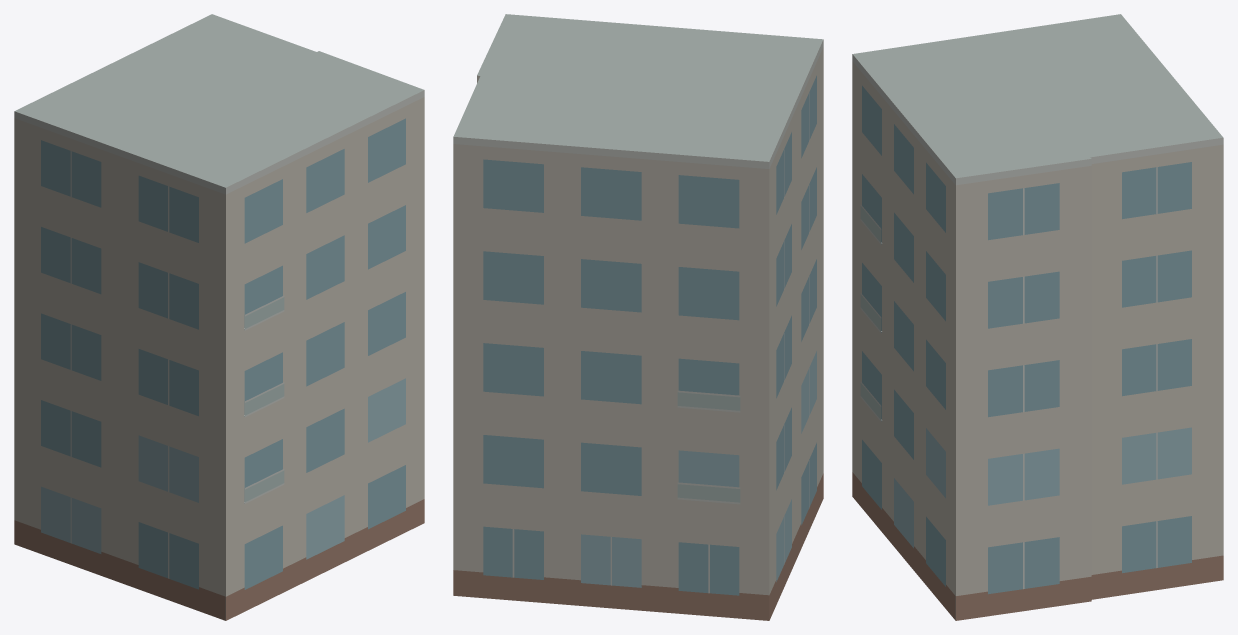
File: survey-upis-32829398.glb
The picture shows the model from 3 angles, left to right: view 1: azimuth 30°, elevation 25°; view 2: azimuth 150°, elevation 25°; view 3: azimuth 270°, elevation 25°; orthographic projection. The views are drawn at different scales.
Parts seen in each view (by area): view 1: survey-upis-32829398.tmp; view 2: survey-upis-32829398.tmp; view 3: survey-upis-32829398.tmp.
Part boxes in pixels (box(x1,y1,x2,y2)): survey-upis-32829398.tmp: box(14, 14, 424, 620); survey-upis-32829398.tmp: box(453, 14, 823, 620); survey-upis-32829398.tmp: box(852, 14, 1223, 620).
Bounding box in the file's own units: 12.35 × 15.5 × 11.79.
